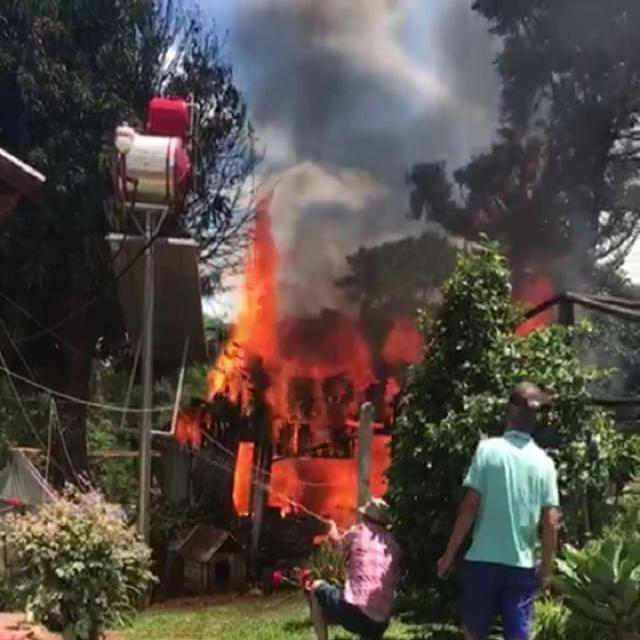Fire: (240, 454, 386, 512), (230, 254, 276, 375)
